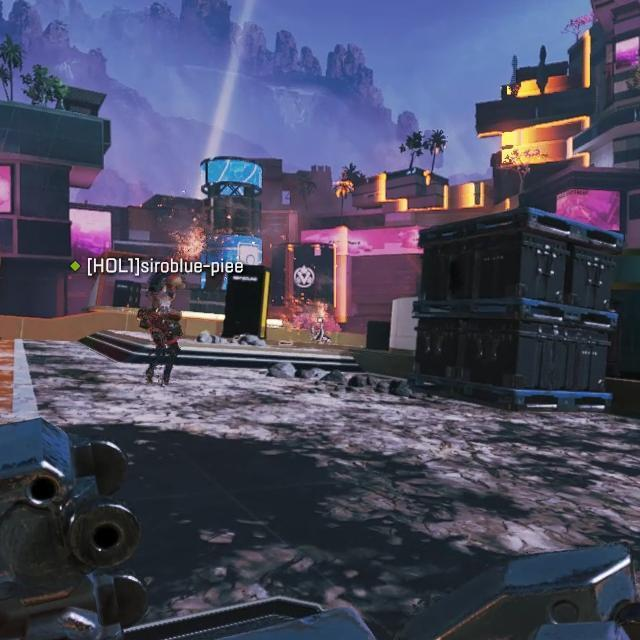avatar: (138, 273, 185, 386)
object: (173, 225, 205, 259)
